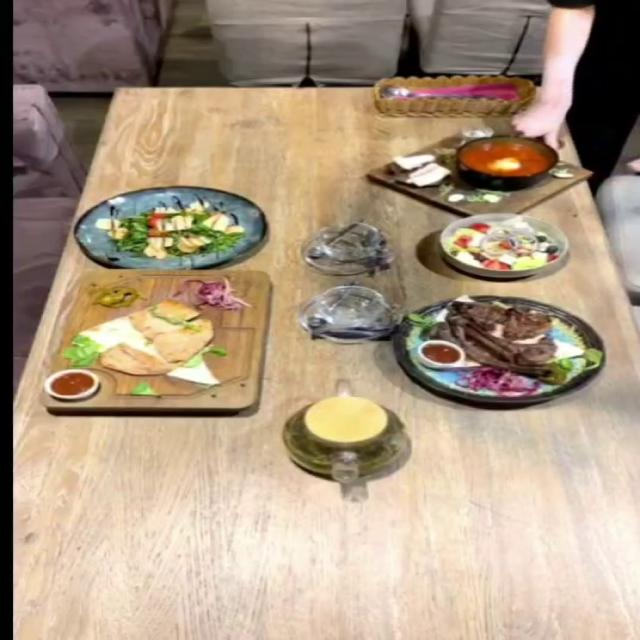meat: (389, 293, 604, 403)
salat: (72, 185, 265, 268), (438, 212, 570, 277)
soup: (366, 127, 596, 217)
tea: (280, 394, 410, 482)
